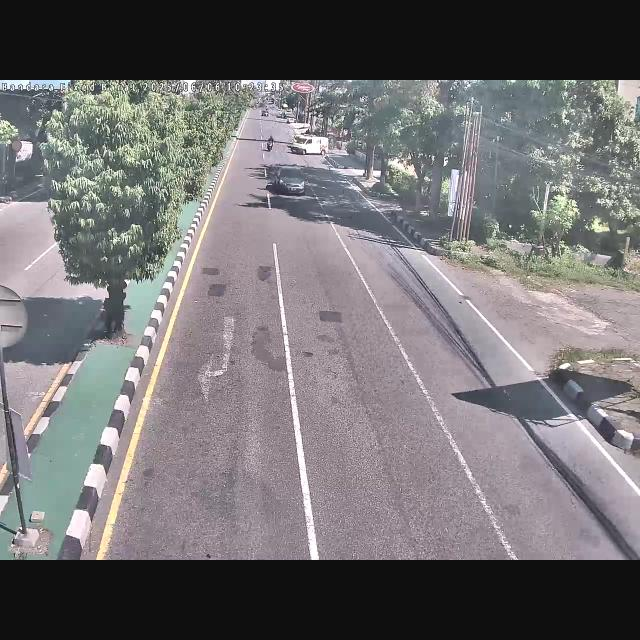Mobil: (274, 161, 308, 199)
